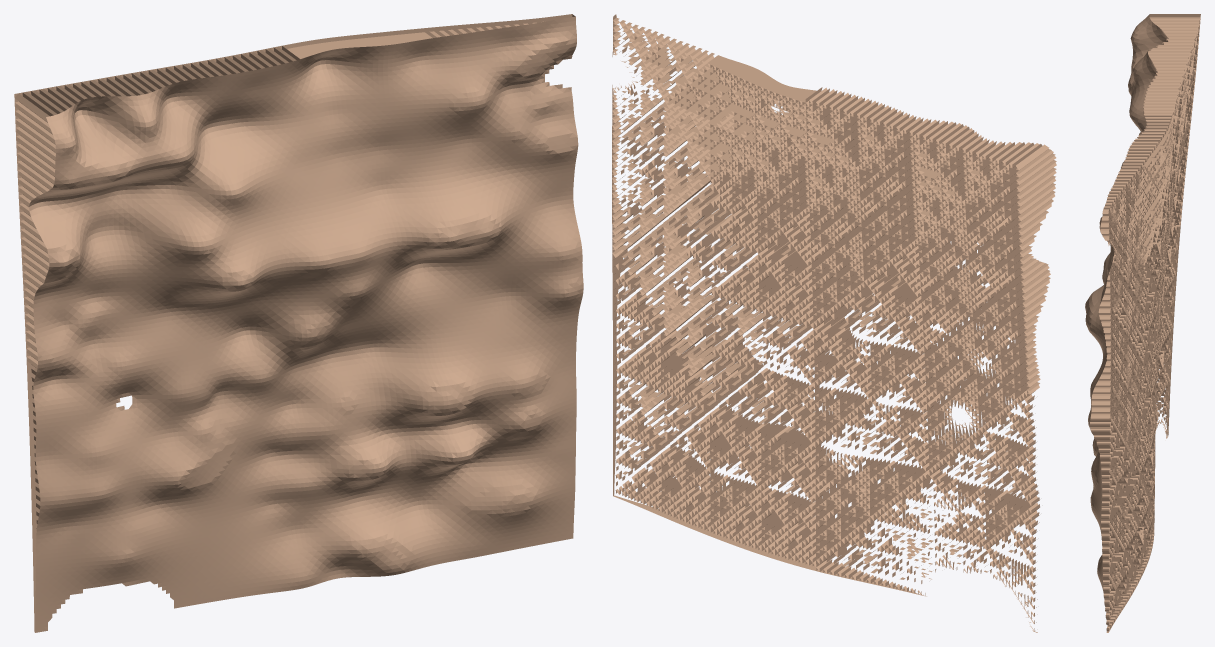
3 views of the same model, side by side, from view 1: azimuth 30°, elevation 25°; view 2: azimuth 150°, elevation 25°; view 3: azimuth 270°, elevation 25° (orthographic). The views are drawn at different scales.
Visible parts, largest first — view 1: world; view 2: world; view 3: world.
Boxes of the visible parts, x1,y1,x2,y2 form: world: [14, 14, 583, 632]; world: [612, 14, 1056, 632]; world: [1085, 14, 1200, 632].
Bounding box in the file's own units: 12800 × 12800 × 3184.
